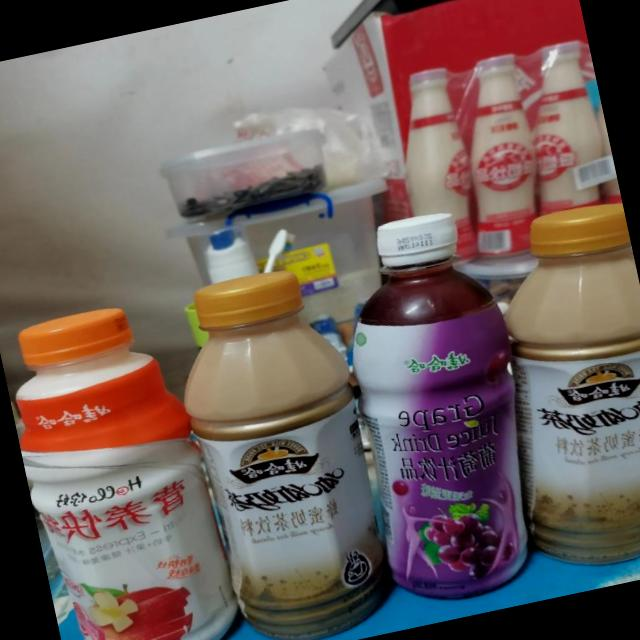bottle: (317, 202, 563, 614), (157, 260, 402, 640), (0, 292, 248, 640), (467, 193, 640, 582), (440, 54, 564, 268), (379, 68, 486, 270), (510, 42, 618, 217), (578, 41, 628, 234)
